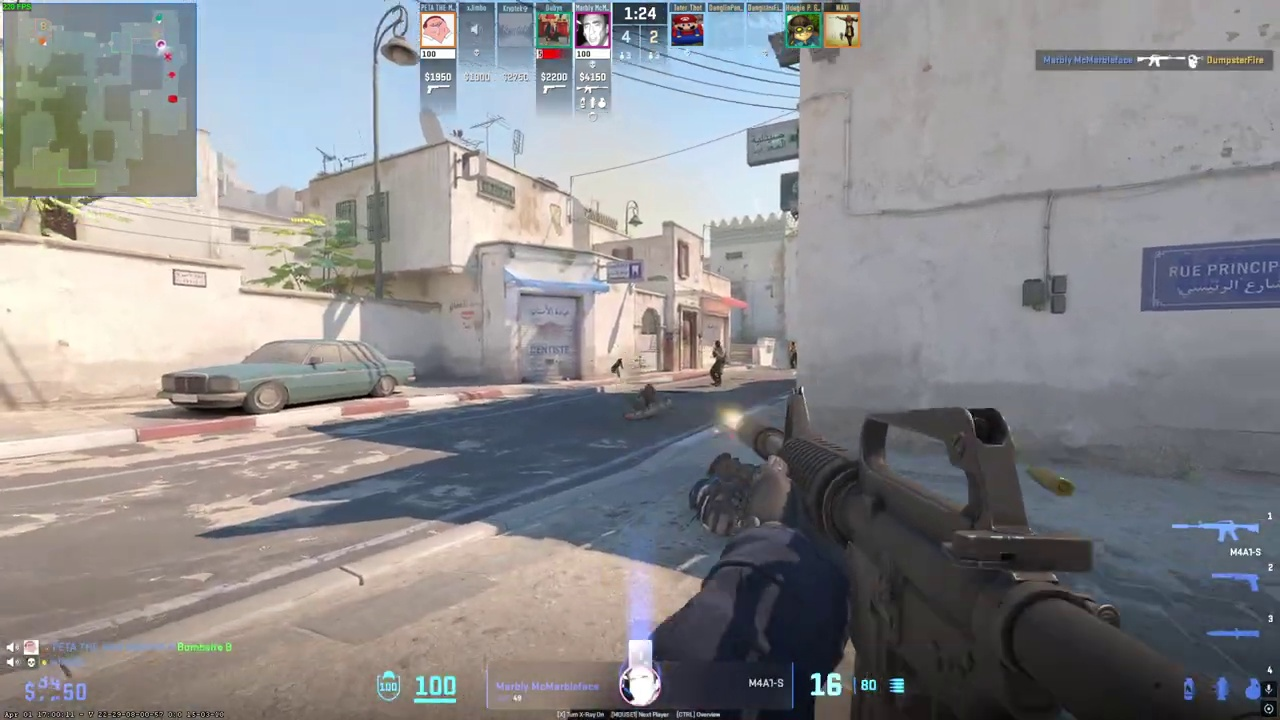Terrorist: (710, 340, 726, 386), (789, 342, 797, 369)
